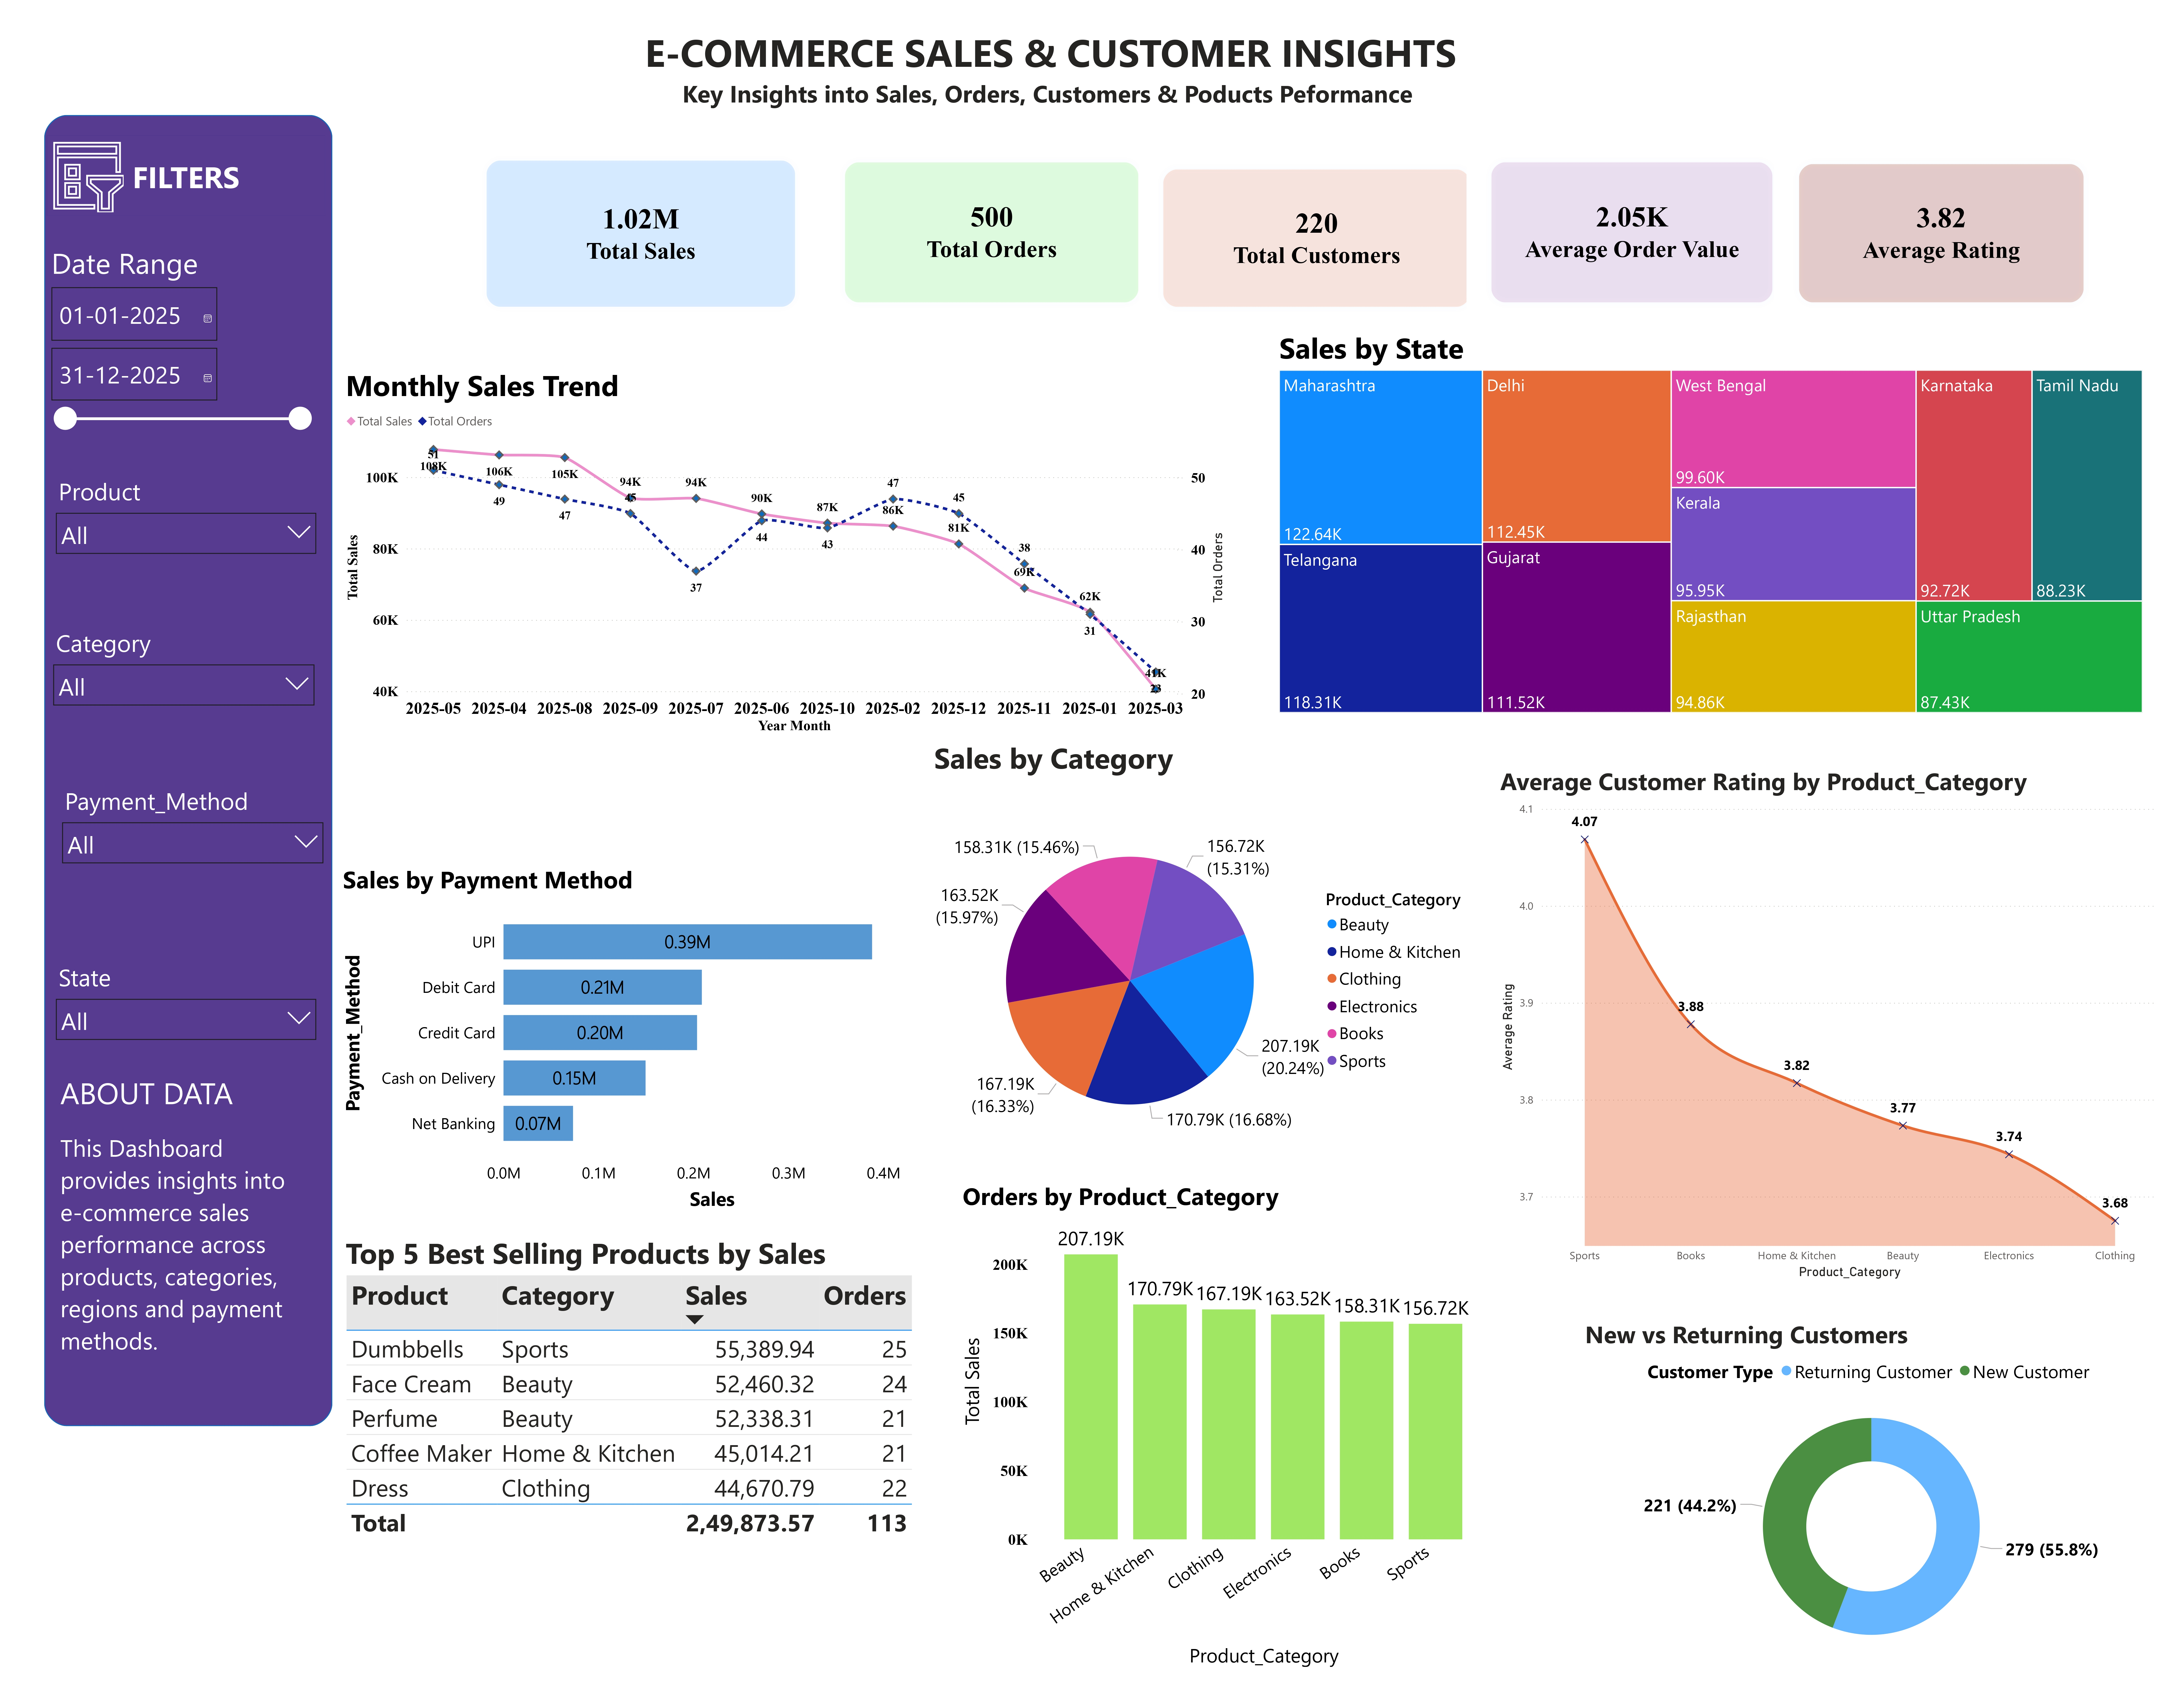

This screenshot's page, from the dashboard's own definition file:
{"tool":"powerbi","page":{"name":"Page 1","canvas":[2400,1850],"ordinal":0},"visuals":[{"type":"lineChart","title":"Monthly Sales Trend","fields":{"Category":["DateTable.Year Month"],"Y":["E-Commerce.Total Sales"],"Y2":["E-Commerce.Total Orders"]},"box":[357.5,385,995,417.5],"z":0},{"type":"clusteredColumnChart","title":"Orders by Product_Category","fields":{"Category":["E-Commerce.Product_Category"],"Y":["E-Commerce.Total Sales"]},"box":[1050,1297.5,602.5,552.5],"z":1000},{"type":"clusteredBarChart","title":"Sales by Payment Method","fields":{"Y":["E-Commerce.Total Sales"],"Category":["E-Commerce.Payment_Method"]},"box":[355,942.5,677.5,395],"z":2000},{"type":"treemap","title":"Sales by State","fields":{"Group":["E-Commerce.State"],"Values":["E-Commerce.Total Sales"]},"box":[1405,342.5,977.5,437.5],"z":3000},{"type":"pieChart","title":"Sales by Category","fields":{"Category":["E-Commerce.Product_Category"],"Y":["E-Commerce.Total Sales"]},"box":[1017.5,802.5,620,502.5],"z":4000},{"type":"lineChart","title":"Average Customer Rating by Product_Category","fields":{"Category":["E-Commerce.Product_Category"],"Y":["E-Commerce.Average Rating"]},"box":[1652.5,832.5,747.5,582.5],"z":5000},{"type":"textbox","box":[6,0,2288,104],"z":6000},{"type":"textbox","box":[298.8,50,46.2,67.5],"z":7000},{"type":"textbox","box":[1222.5,131.2,57.5,68.8],"z":8000},{"type":"cardVisual","fields":{"Data":["E-Commerce.Total Orders"]},"box":[895,130,385,213.3],"z":9000},{"type":"cardVisual","fields":{"Data":["E-Commerce.Total Sales"]},"box":[492.5,127.5,402.5,220],"z":10000},{"type":"cardVisual","fields":{"Data":["E-Commerce.Total Customers"]},"box":[1251.7,138.3,400,210],"z":11000},{"type":"cardVisual","fields":{"Data":["E-Commerce.Average Order Value"]},"box":[1620,130,371.7,213.3],"z":12000},{"type":"cardVisual","fields":{"Data":["E-Commerce.Average Rating"]},"box":[1965,131.7,375,211.7],"z":13000},{"type":"donutChart","title":"New vs Returning Customers","fields":{"Category":["E-Commerce.Customer Type"],"Y":["CountNonNull(E-Commerce.Customer_ID)"]},"box":[1747.5,1452.5,652.5,397.5],"z":14000},{"type":"tableEx","title":"Top 5 Best Selling Products by Sales","fields":{"Values":["E-Commerce.Product Name","E-Commerce.Product_Category","E-Commerce.Total Sales","E-Commerce.Total Orders"]},"box":[357.5,1357.5,660,352.5],"z":16000},{"type":"shape","box":[25,105,322.5,1470],"z":16001},{"type":"slicer","fields":{"Values":["E-Commerce.Product Name"]},"box":[27.5,502.5,312.5,155],"z":16002},{"type":"slicer","fields":{"Values":["E-Commerce.Product_Category"]},"box":[25,672.5,312.5,170],"z":16003},{"type":"slicer","fields":{"Values":["E-Commerce.Payment_Method"]},"box":[35,850,312.5,165],"z":16004},{"type":"slicer","fields":{"Values":["E-Commerce.State"]},"box":[27.5,1047.5,312.5,150],"z":16005},{"type":"slicer","fields":{"Values":["E-Commerce.Order_Date"]},"box":[20,242.5,312.5,240],"z":16006},{"type":"actionButton","box":[27.5,127.5,312.5,90],"z":16010},{"type":"textbox","title":"ABOUT DATA","box":[37.5,1177.5,285,357.5],"z":16011}]}

Visuals, with their boxes in screenshot pixels (x1, y1, x2, y2):
"Monthly Sales Trend" lineChart: detection(338, 289, 1231, 663)
"Orders by Product_Category" clusteredColumnChart: detection(959, 1108, 1500, 1604)
"Sales by Payment Method" clusteredBarChart: detection(336, 789, 944, 1144)
"Sales by State" treemap: detection(1278, 250, 2155, 643)
"Sales by Category" pieChart: detection(930, 663, 1487, 1114)
"Average Customer Rating by Product_Category" lineChart: detection(1500, 690, 2171, 1213)
textbox: detection(23, 0, 2076, 37)
textbox: detection(285, 0, 327, 49)
textbox: detection(1114, 61, 1166, 122)
cardVisual - E-Commerce.Total Orders: detection(820, 60, 1166, 251)
cardVisual - E-Commerce.Total Sales: detection(459, 58, 820, 255)
cardVisual - E-Commerce.Total Customers: detection(1140, 67, 1499, 256)
cardVisual - E-Commerce.Average Order Value: detection(1471, 60, 1805, 251)
cardVisual - E-Commerce.Average Rating: detection(1781, 61, 2117, 251)
"New vs Returning Customers" donutChart: detection(1585, 1247, 2171, 1604)
"Top 5 Best Selling Products by Sales" tableEx: detection(338, 1162, 930, 1478)
shape: detection(39, 37, 329, 1357)
slicer - E-Commerce.Product Name: detection(42, 394, 322, 533)
slicer - E-Commerce.Product_Category: detection(39, 547, 320, 699)
slicer - E-Commerce.Payment_Method: detection(49, 706, 329, 854)
slicer - E-Commerce.State: detection(42, 883, 322, 1018)
slicer - E-Commerce.Order_Date: detection(35, 161, 315, 376)
actionButton: detection(42, 58, 322, 138)
"ABOUT DATA" textbox: detection(51, 1000, 307, 1321)
